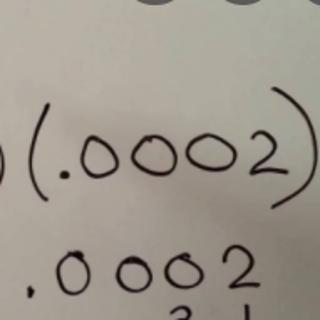.: (54, 166, 74, 183), (24, 280, 38, 302)
0: (183, 132, 242, 175), (129, 134, 182, 177), (54, 248, 96, 298), (81, 134, 121, 180), (165, 253, 206, 289), (118, 255, 155, 293)
2: (247, 128, 290, 177), (223, 243, 260, 291)
